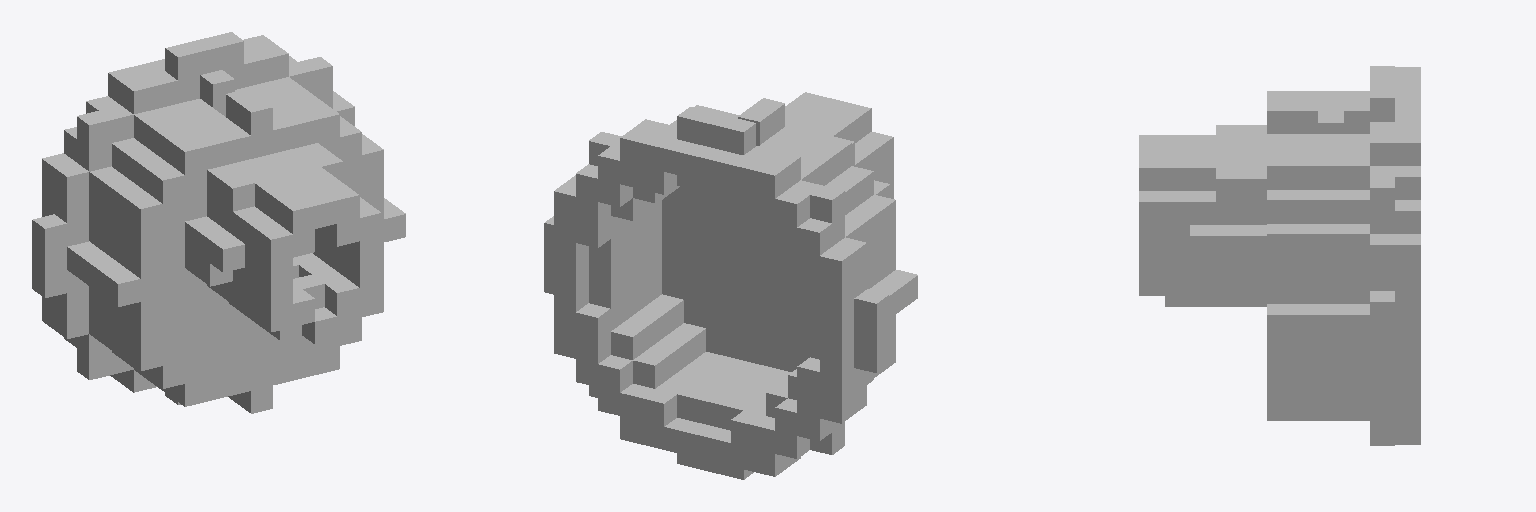
The model's file is mono3.obj.
The picture shows the model from 3 angles: view 1: azimuth 30°, elevation 25°; view 2: azimuth 150°, elevation 25°; view 3: azimuth 270°, elevation 25°; orthographic projection.
Parts seen in each view (by area): view 1: Part__Feature001; view 2: Part__Feature001; view 3: Part__Feature001.
Part boxes in pixels (x1,y1,x2,y2): Part__Feature001: (32, 32, 405, 413); Part__Feature001: (544, 92, 917, 479); Part__Feature001: (1139, 66, 1420, 445).
Bounding box in the file's own units: 1.04 × 1.04 × 0.7639.